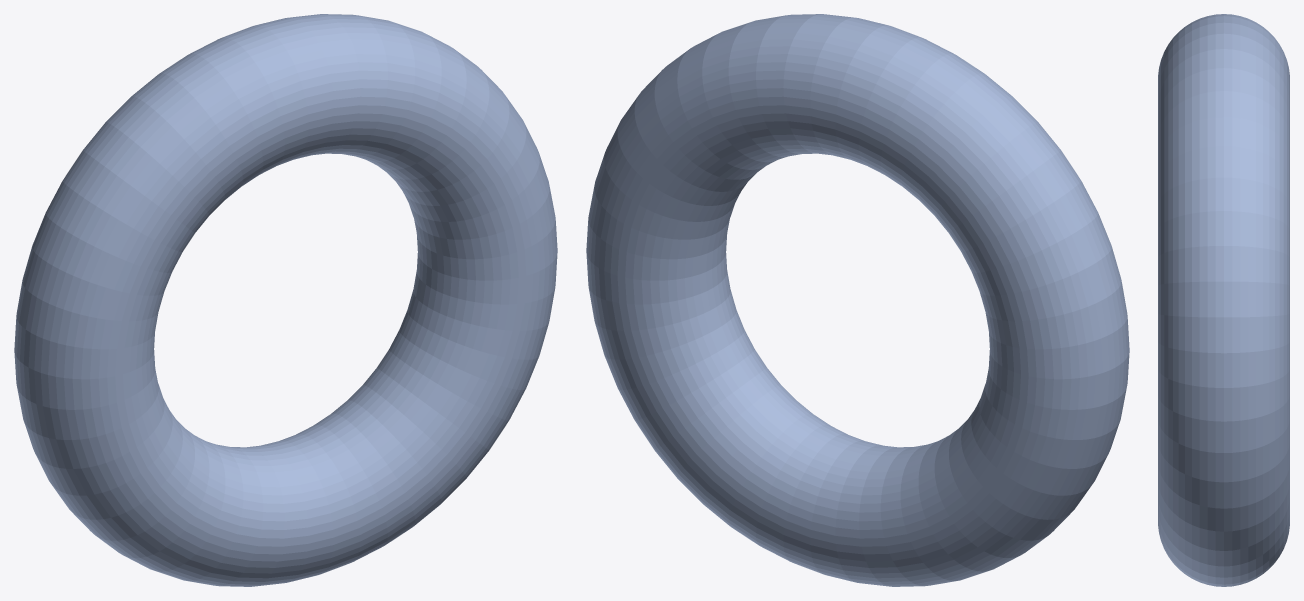
The picture shows the model from 3 angles, left to right: view 1: azimuth 30°, elevation 25°; view 2: azimuth 150°, elevation 25°; view 3: azimuth 270°, elevation 25°; orthographic projection. The views are drawn at different scales.
Parts seen in each view (by area): view 1: world; view 2: world; view 3: world.
Boxes of the visible parts, x1,y1,x2,y2 form: world: (14, 14, 557, 586); world: (586, 14, 1129, 586); world: (1158, 14, 1289, 586).
Bounding box in the file's own units: 22.53 × 22.49 × 5.19.
